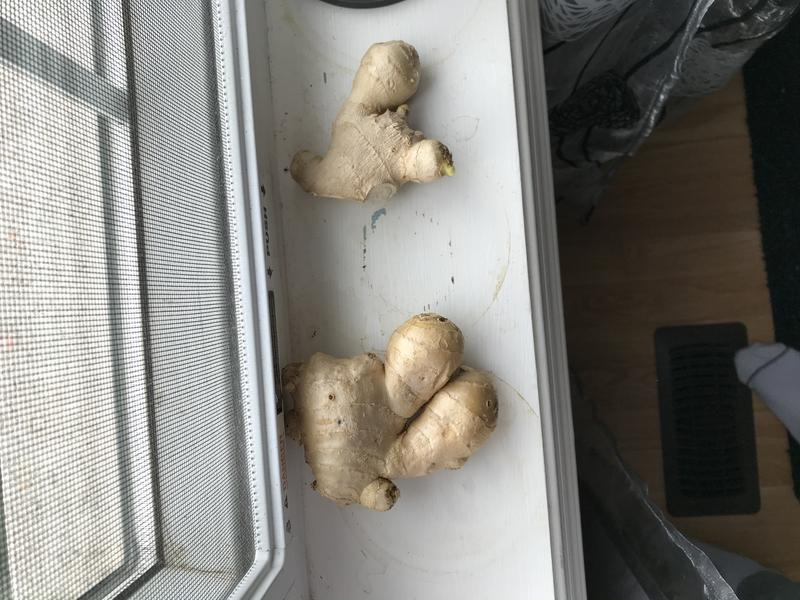ginger: (270, 298, 513, 520), (278, 31, 473, 215)
